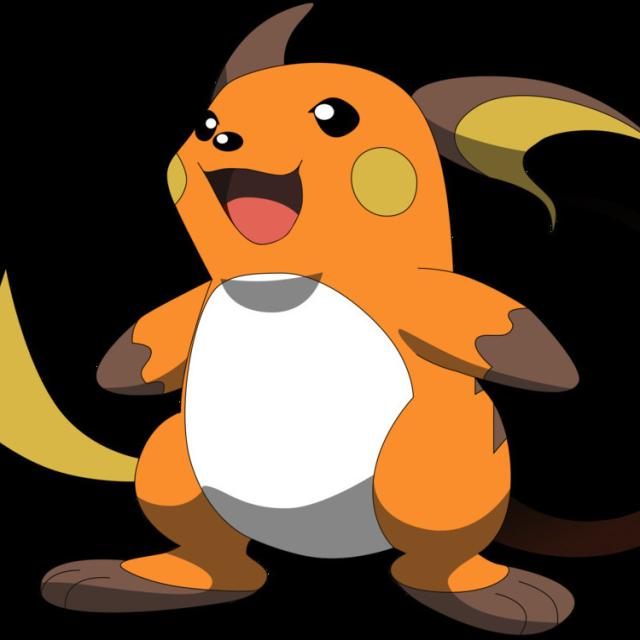Raichu: (94, 60, 541, 608)
